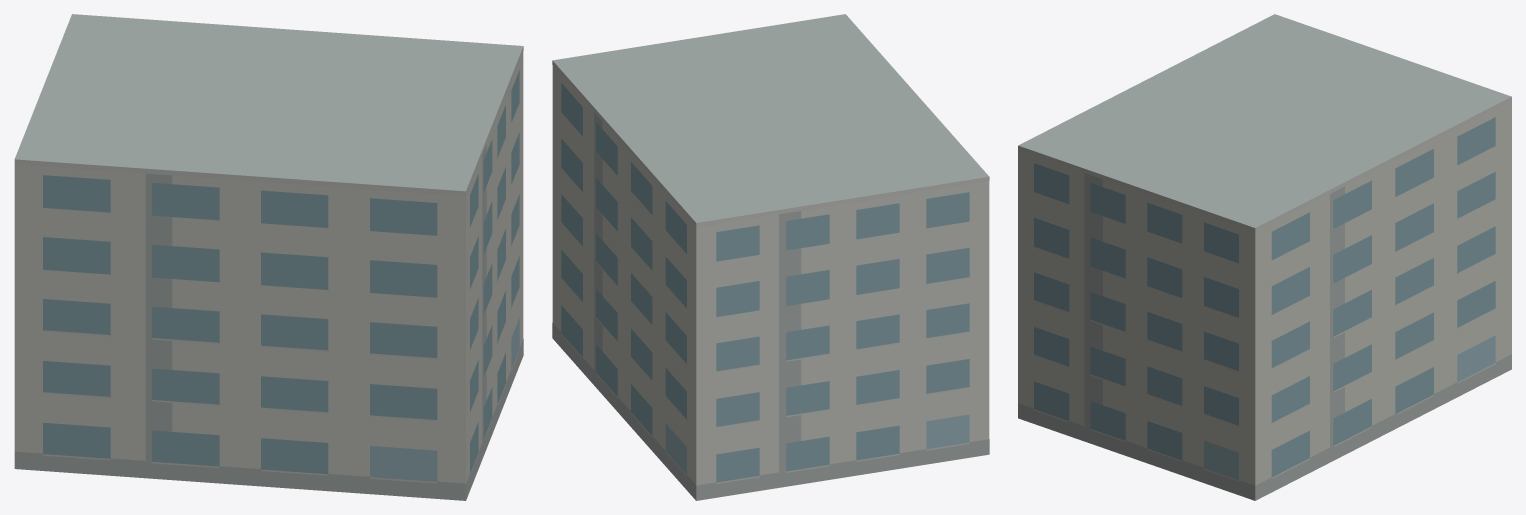
The model's file is residential-341cd761-f7a3-490a-a7a6-44f2e44bbbc5.glb.
The picture shows the model from 3 angles, left to right: view 1: azimuth 30°, elevation 25°; view 2: azimuth 150°, elevation 25°; view 3: azimuth 270°, elevation 25°; orthographic projection. The views are drawn at different scales.
Visible parts, largest first — view 1: residential-341cd761-f7a3-490a-a7a6-44f2e44bbbc5.tmp; view 2: residential-341cd761-f7a3-490a-a7a6-44f2e44bbbc5.tmp; view 3: residential-341cd761-f7a3-490a-a7a6-44f2e44bbbc5.tmp.
Boxes of the visible parts, box(x1,y1,x2,y2) form: residential-341cd761-f7a3-490a-a7a6-44f2e44bbbc5.tmp: box(14, 14, 523, 500); residential-341cd761-f7a3-490a-a7a6-44f2e44bbbc5.tmp: box(552, 14, 989, 500); residential-341cd761-f7a3-490a-a7a6-44f2e44bbbc5.tmp: box(1018, 14, 1511, 500).
Bounding box in the file's own units: 25.67 × 15.25 × 25.02.
